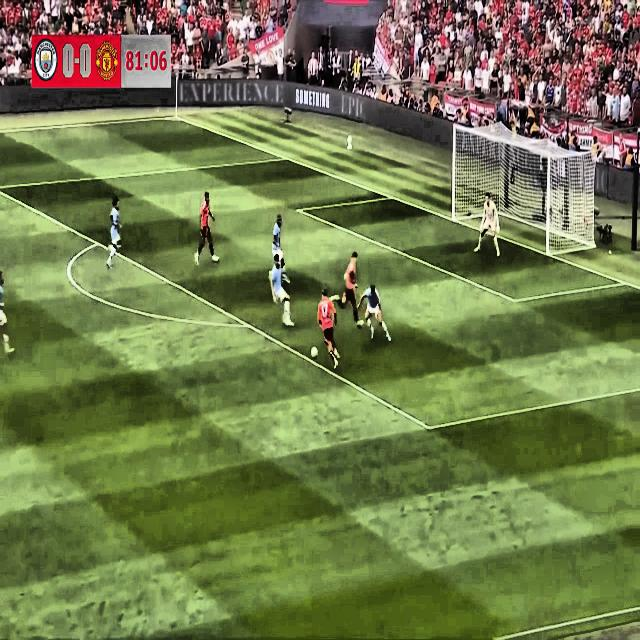ball: (309, 340, 320, 370)
goal_keeper: (476, 185, 502, 252)
players: (266, 250, 298, 331), (195, 186, 222, 270), (338, 248, 365, 331), (362, 278, 391, 354), (316, 284, 341, 369), (104, 192, 127, 274), (0, 262, 15, 360), (271, 212, 290, 286)
